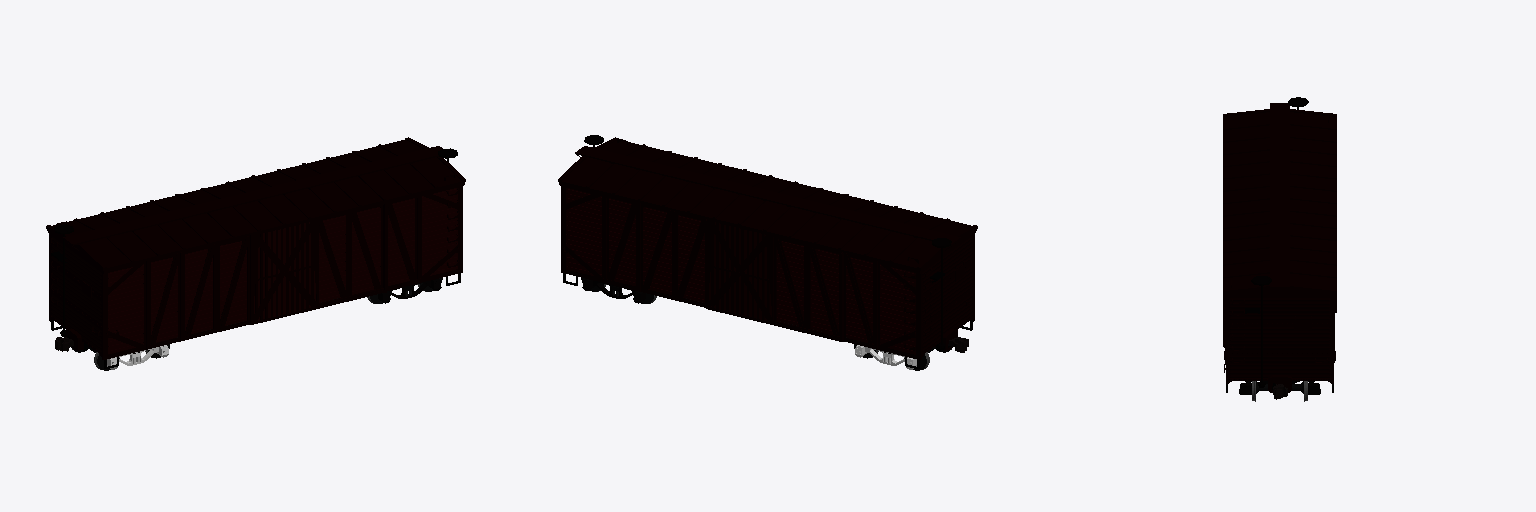
The model's file is boxcar_x26.obj.
The picture shows the model from 3 angles: view 1: azimuth 30°, elevation 25°; view 2: azimuth 150°, elevation 25°; view 3: azimuth 270°, elevation 25°; orthographic projection.
Visible parts, largest first — view 1: BOXCAR_Cube.026, DOOR_LEFT_Cube.006, BOGEY_FRONT_Cube.007, BOGEY_BACK_Cube.024; view 2: BOXCAR_Cube.026, DOOR_RIGHT_Cube.002, BOGEY_FRONT_Cube.007, BOGEY_BACK_Cube.024; view 3: BOXCAR_Cube.026, BOGEY_BACK_Cube.024.
Boxes of the visible parts, x1=… form: BOXCAR_Cube.026: x1=46, y1=137, x2=465, y2=368; DOOR_LEFT_Cube.006: x1=254, y1=220, x2=317, y2=321; BOGEY_FRONT_Cube.007: x1=71, y1=344, x2=169, y2=370; BOGEY_BACK_Cube.024: x1=367, y1=278, x2=442, y2=303; BOXCAR_Cube.026: x1=558, y1=135, x2=977, y2=368; DOOR_RIGHT_Cube.002: x1=707, y1=220, x2=773, y2=322; BOGEY_FRONT_Cube.007: x1=854, y1=344, x2=952, y2=370; BOGEY_BACK_Cube.024: x1=581, y1=278, x2=656, y2=303; BOXCAR_Cube.026: x1=1223, y1=97, x2=1336, y2=392; BOGEY_BACK_Cube.024: x1=1239, y1=381, x2=1320, y2=401.
Size of the model in its own units: 12.86 by 4.05 by 3.21.